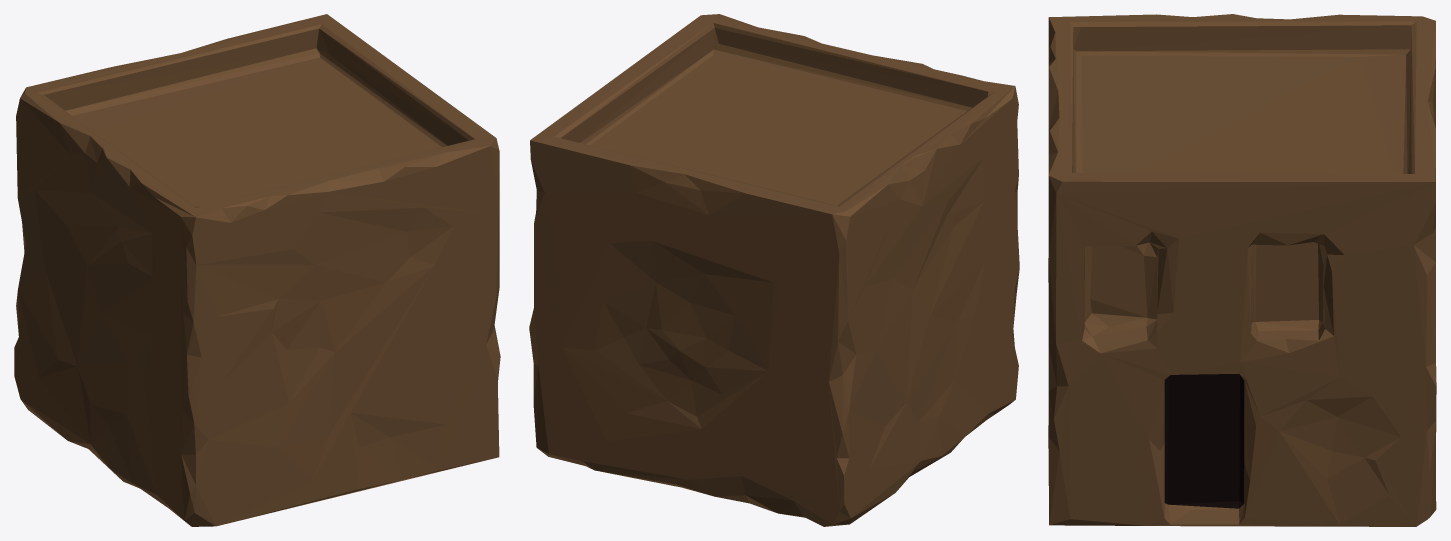
The model's file is SM_small_house_07.fbx.
3 renders of one model, left to right at view 1: azimuth 30°, elevation 25°; view 2: azimuth 150°, elevation 25°; view 3: azimuth 270°, elevation 25°, orthographic. The views are drawn at different scales.
Visible parts, largest first — view 1: small_house_07; view 2: small_house_07; view 3: small_house_07.
Boxes of the visible parts, left/top/right/bottom form: small_house_07: left=14, top=14, right=500, bottom=526; small_house_07: left=529, top=14, right=1019, bottom=526; small_house_07: left=1048, top=14, right=1436, bottom=526.
Size of the model in its own units: 591 by 566 by 576.
